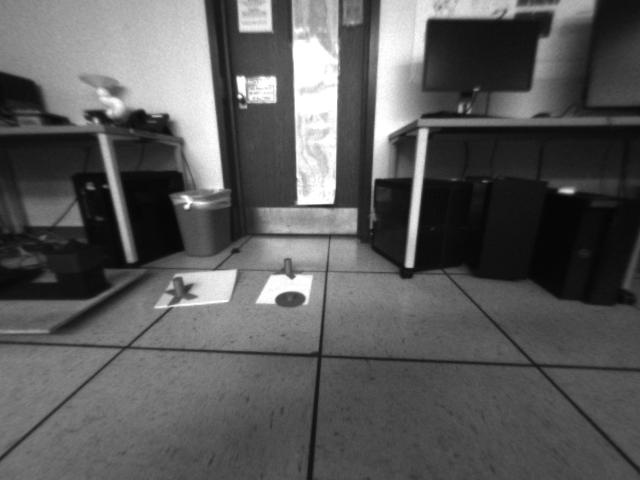X: (163, 275, 198, 308), (273, 257, 303, 278)
